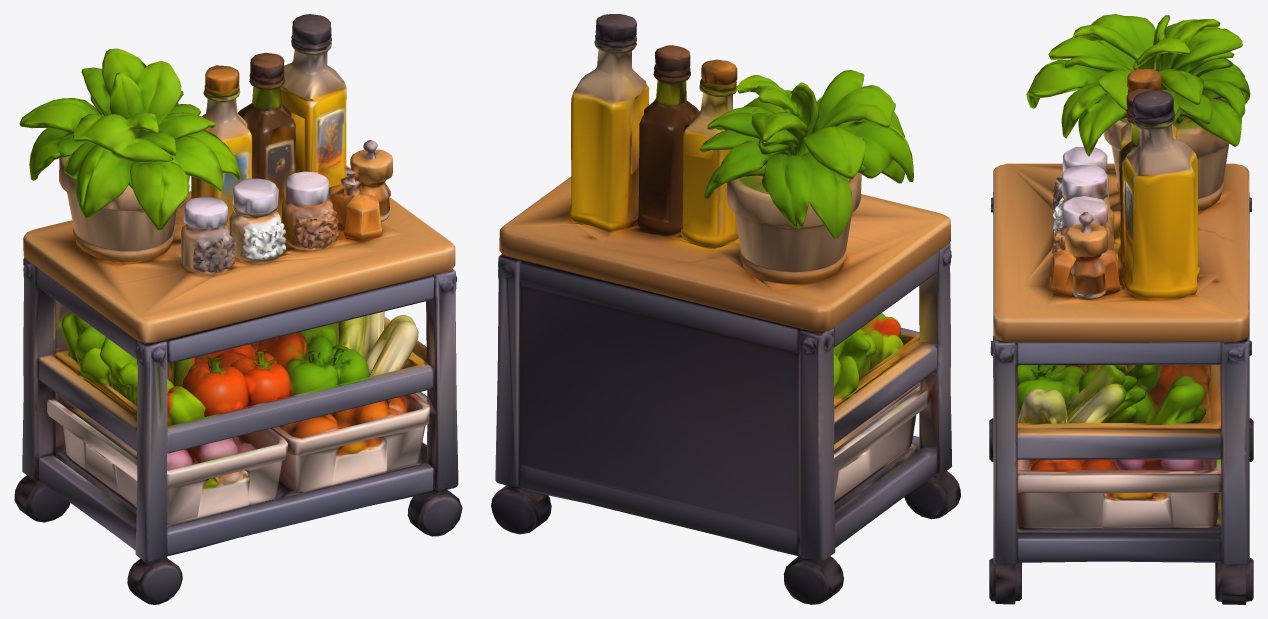
File: storage-cabinet.glb
3 views of the same model, side by side, from view 1: azimuth 30°, elevation 25°; view 2: azimuth 150°, elevation 25°; view 3: azimuth 270°, elevation 25° (orthographic). The views are drawn at different scales.
Parts seen in each view (by area): view 1: 置物柜_用户原件静态总成; view 2: 置物柜_用户原件静态总成; view 3: 置物柜_用户原件静态总成.
Boxes of the visible parts, x1=… form: 置物柜_用户原件静态总成: x1=14, y1=14, x2=462, y2=604; 置物柜_用户原件静态总成: x1=491, y1=14, x2=960, y2=604; 置物柜_用户原件静态总成: x1=989, y1=14, x2=1253, y2=604.
Bounding box in the file's own units: 1.05 × 1.41 × 0.706.
Materials: 1 (1 with a texture image).
